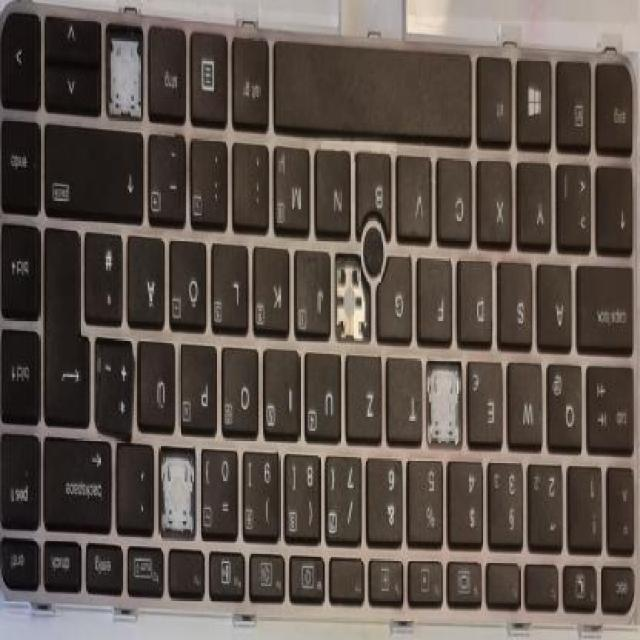Keyboard problems: (101, 14, 148, 124), (153, 439, 200, 546), (422, 356, 467, 449), (333, 253, 373, 344)
